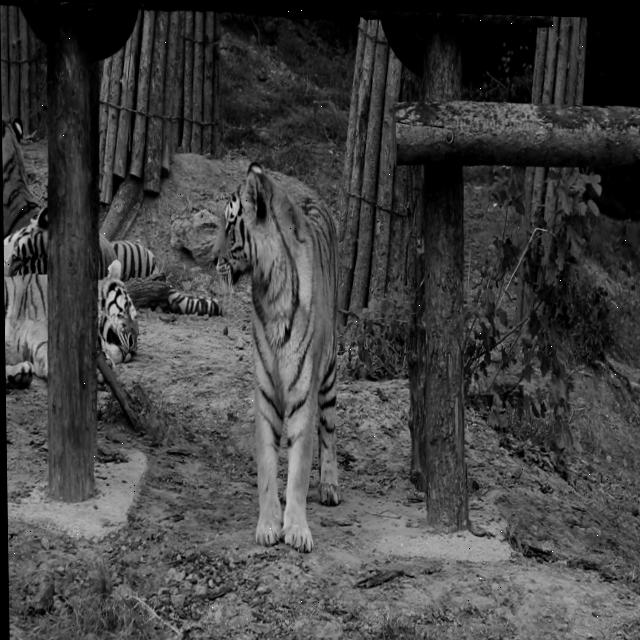Tiger: (209, 158, 344, 554), (4, 254, 140, 393)
